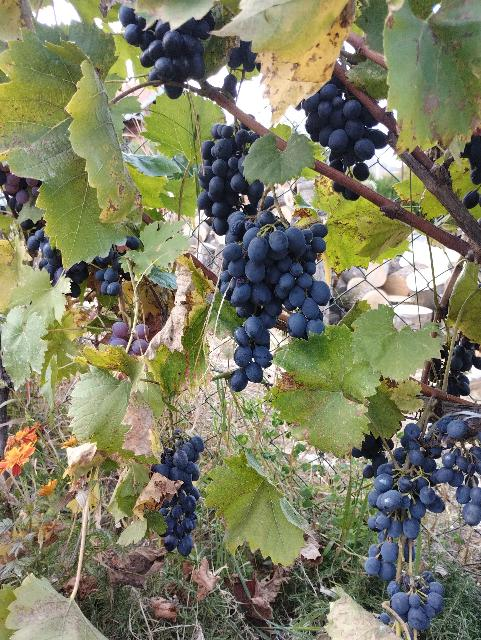grapes: (221, 210, 330, 391), (365, 411, 481, 579), (302, 76, 388, 181), (198, 124, 265, 235), (151, 429, 205, 556), (388, 571, 445, 635)
